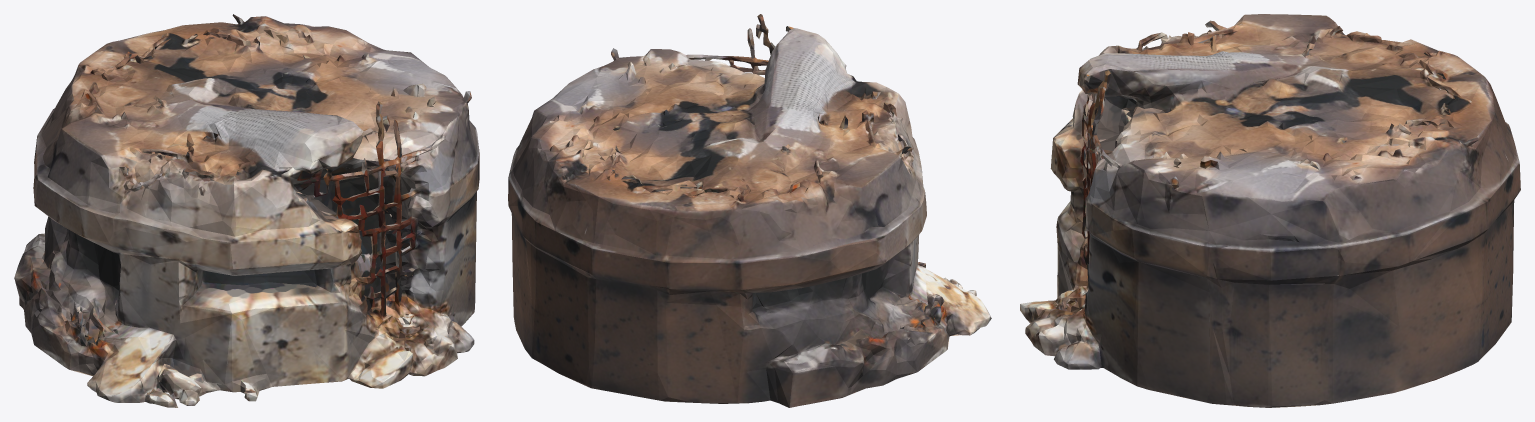
Rendered from war_bunker_1117.glb.
The picture shows the model from 3 angles, left to right: view 1: azimuth 30°, elevation 25°; view 2: azimuth 150°, elevation 25°; view 3: azimuth 270°, elevation 25°; orthographic projection. The views are drawn at different scales.
Parts seen in each view (by area): view 1: tmp62lj7mon.ply; view 2: tmp62lj7mon.ply; view 3: tmp62lj7mon.ply.
Part boxes in pixels (bbox=[...]): tmp62lj7mon.ply: bbox=[14, 14, 479, 407]; tmp62lj7mon.ply: bbox=[508, 14, 991, 407]; tmp62lj7mon.ply: bbox=[1020, 14, 1520, 407].
Bounding box in the file's own units: 1.99 × 1.15 × 1.99.
Materials: 1 (1 with a texture image).
